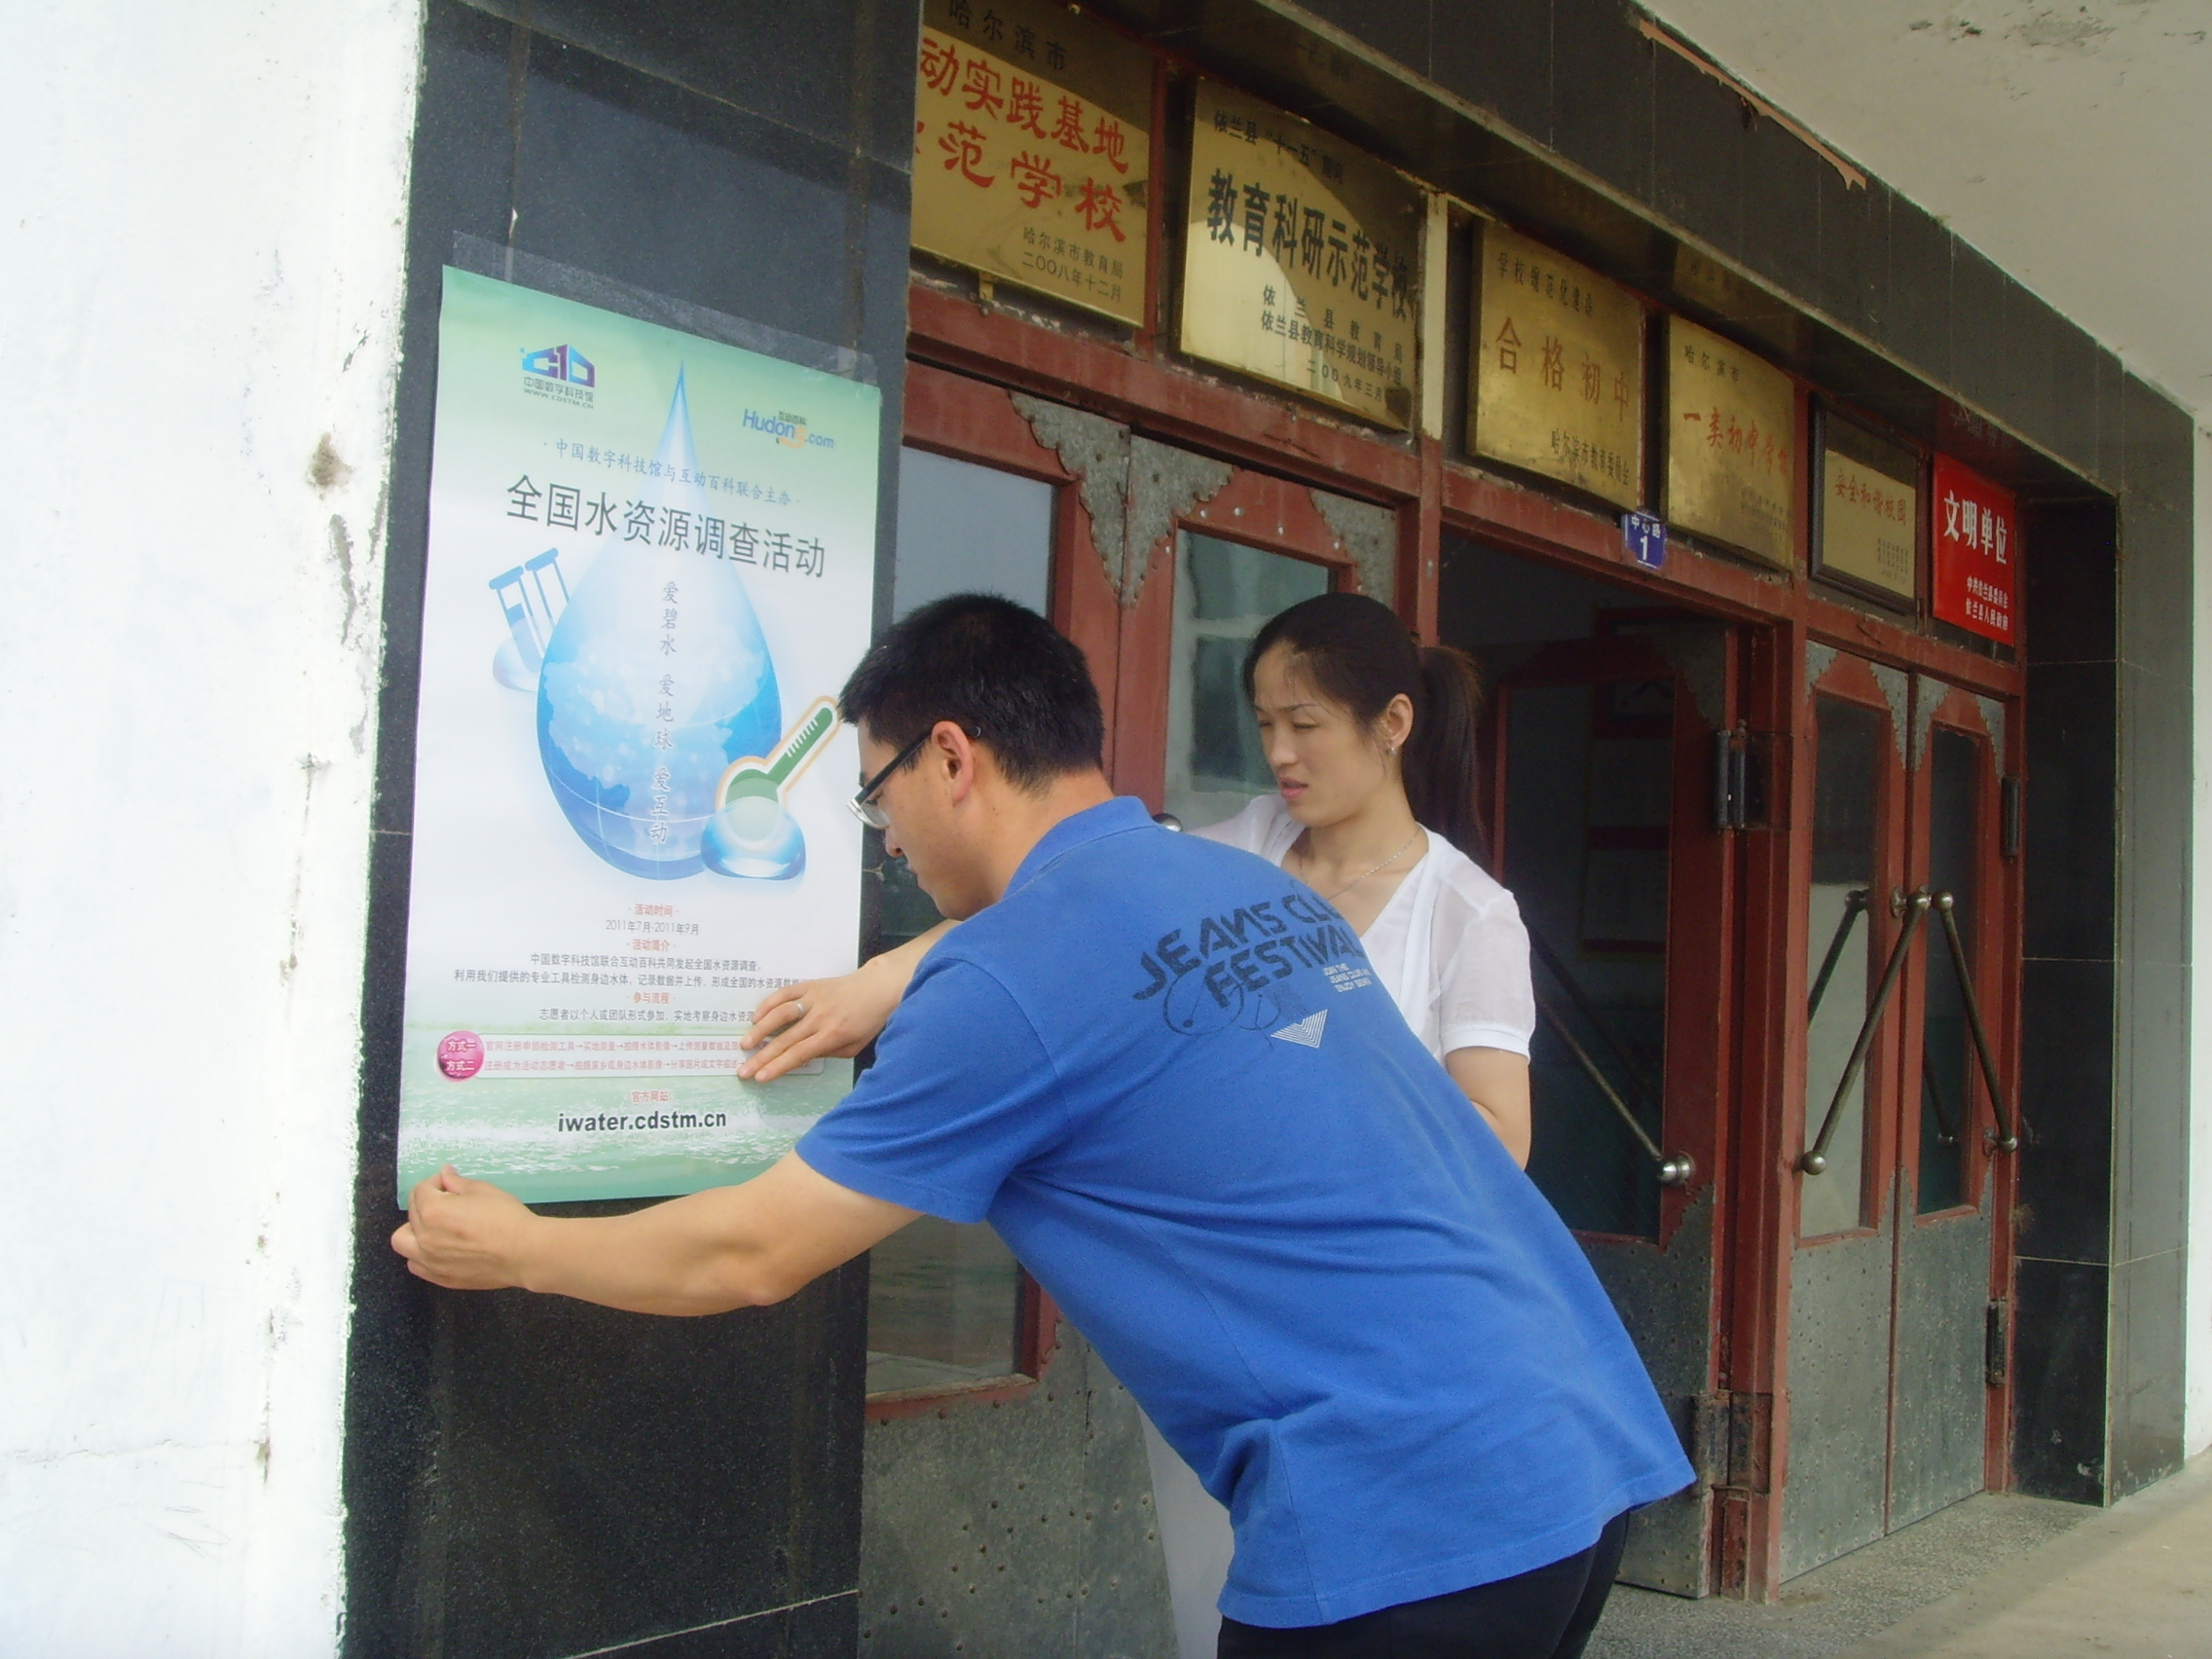bill: (392, 253, 880, 1243)
